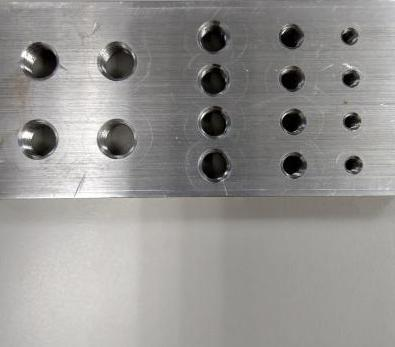hole: (16, 118, 60, 161), (96, 117, 139, 160), (96, 40, 138, 82), (19, 40, 60, 82), (195, 18, 232, 55), (196, 104, 233, 140), (196, 147, 232, 184), (195, 62, 231, 97), (278, 107, 308, 136), (279, 151, 309, 179), (277, 22, 305, 51), (278, 64, 307, 92), (343, 154, 364, 175), (340, 68, 361, 88), (342, 111, 362, 132), (340, 26, 359, 46)
